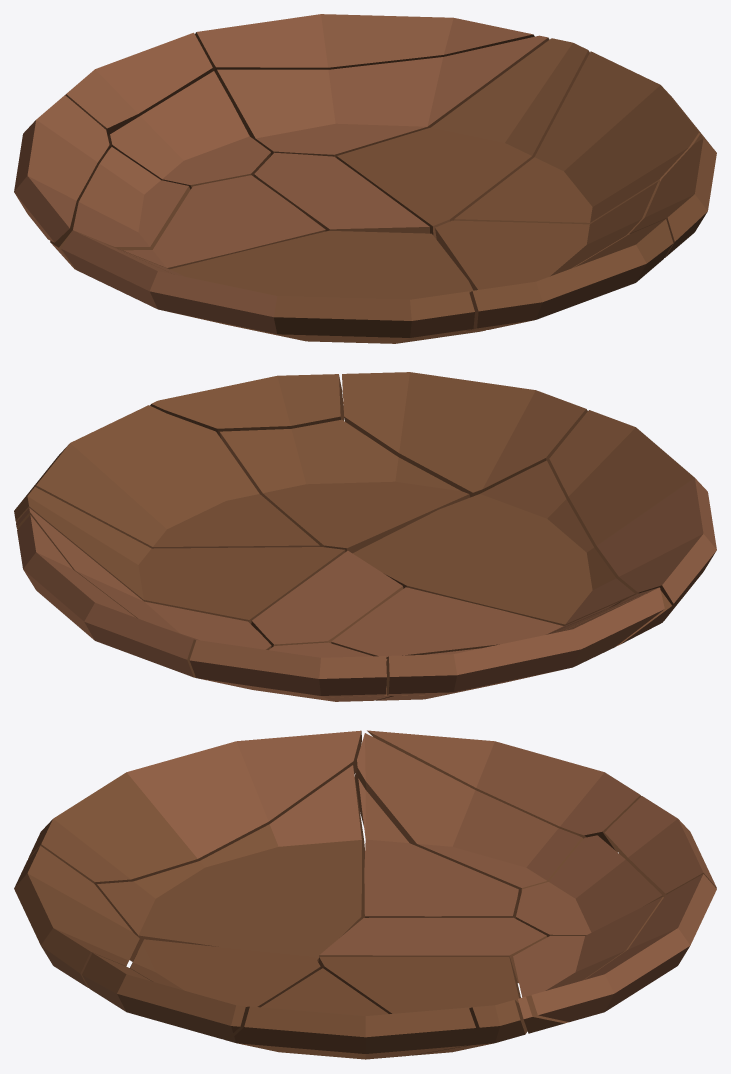
The model's file is fractured_shallow_plate.glb.
3 views of the same model, one above another, from view 1: azimuth 30°, elevation 25°; view 2: azimuth 150°, elevation 25°; view 3: azimuth 270°, elevation 25° (orthographic).
Visible parts, largest first — view 1: ShallowPlate_cell; view 2: ShallowPlate_cell; view 3: ShallowPlate_cell.
Boxes of the visible parts, <box> form: ShallowPlate_cell: <box>14,14,716,343</box>; ShallowPlate_cell: <box>14,372,716,701</box>; ShallowPlate_cell: <box>14,730,716,1059</box>.
Size of the model in its own units: 0.25 by 0.0354 by 0.25.
